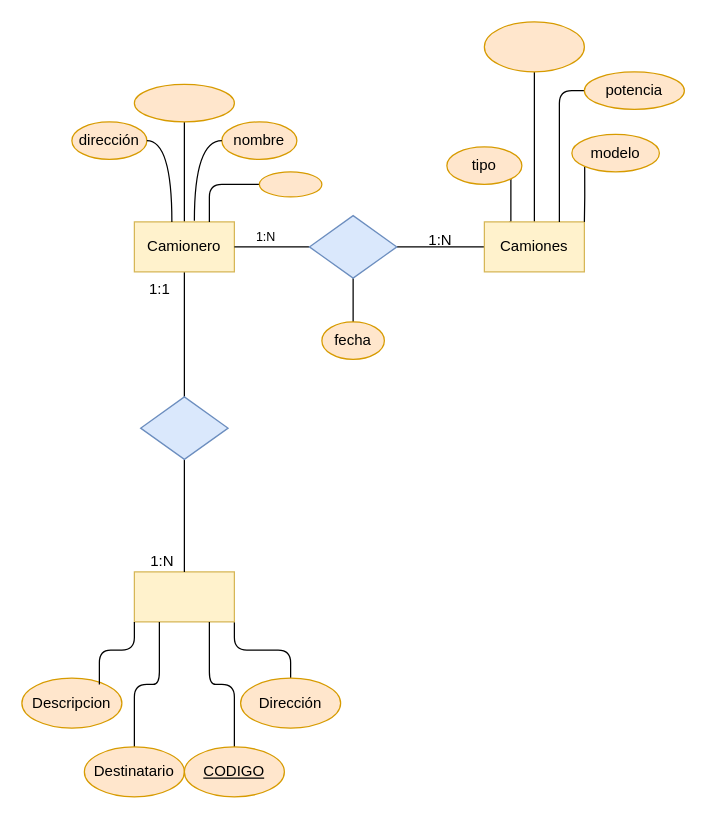
Some shapes in this 706 by 819 pixel diagram are drawn without their labels. The shapes that lost their labels are listed below. From the top down, each one's centre as x and y in pixels, then its label:
pixel 533 46: MATRICULA
pixel 183 102: DNI
pixel 290 184: tlf
pixel 352 246: Conduce
pixel 183 427: Reparte
pixel 183 596: Paquetes
